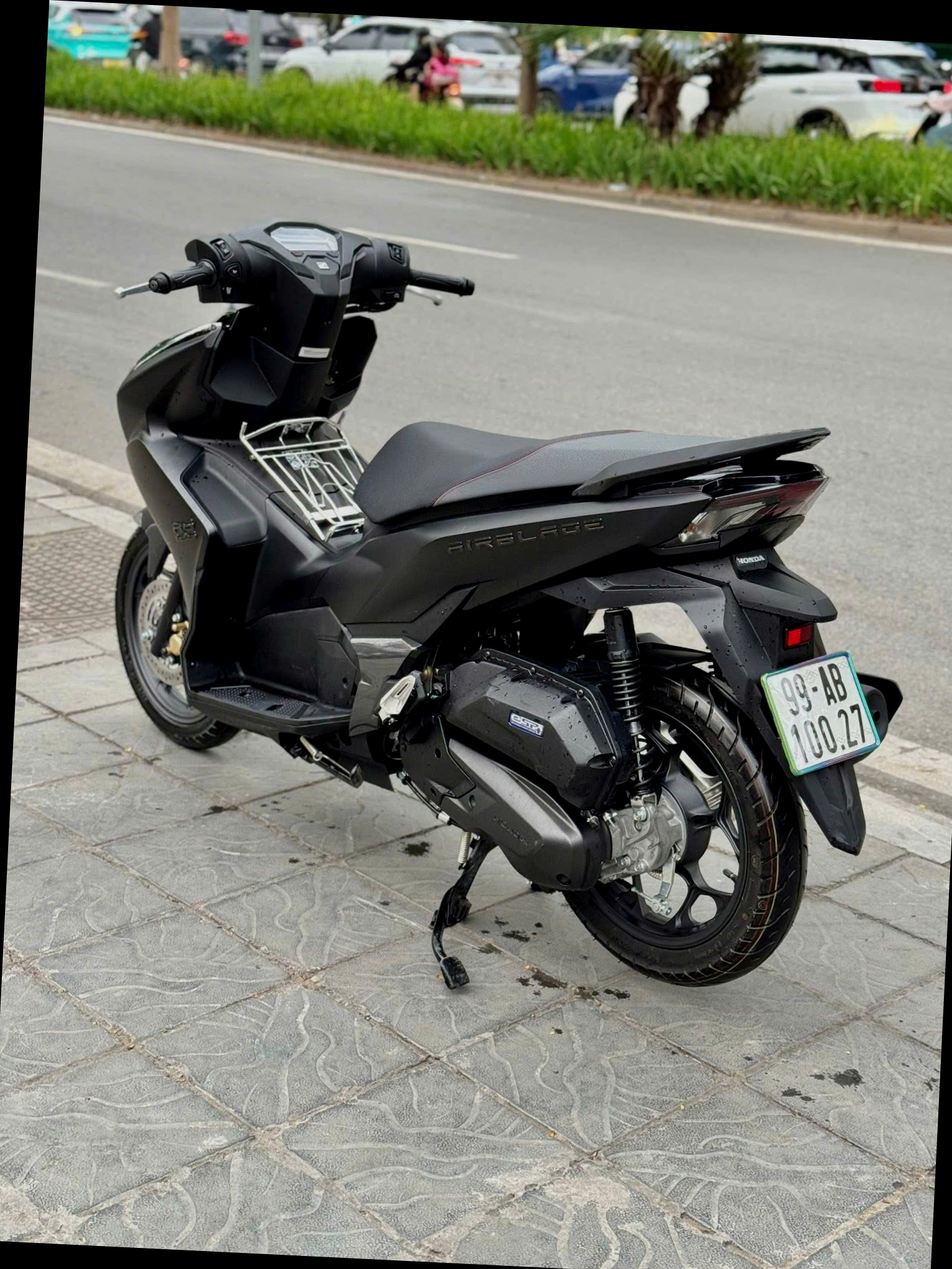Bien-so: (766, 597, 895, 745)
